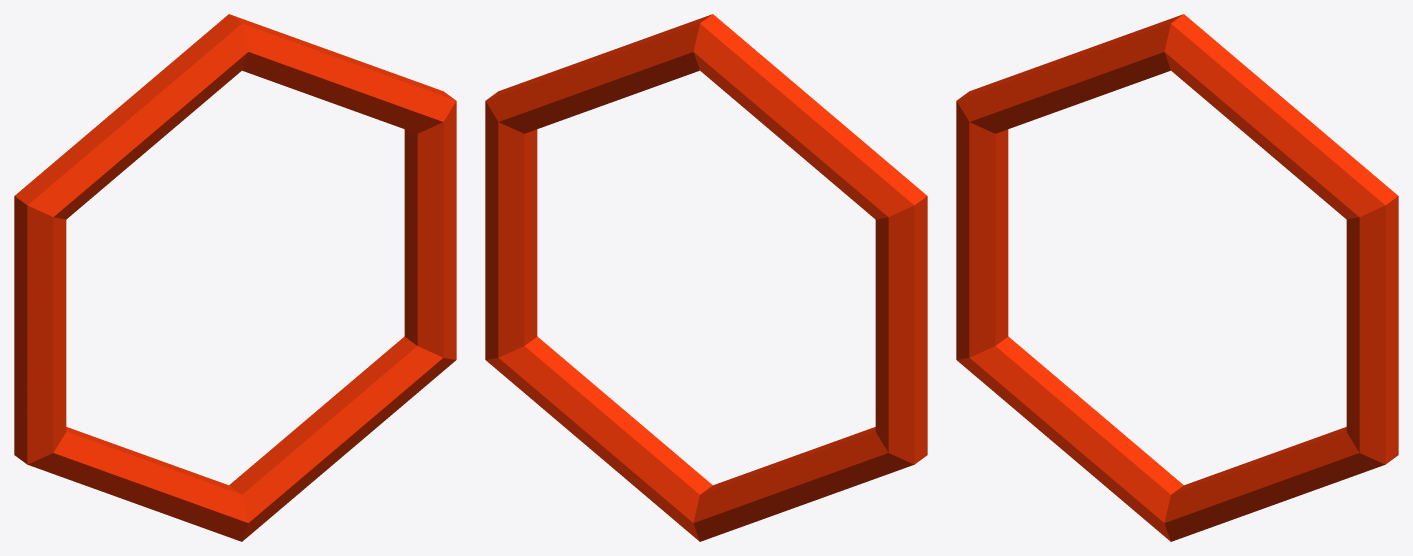
File: Shield_Frame_01_Hexagon_05.fbx
3 views of the same model, side by side, from view 1: azimuth 30°, elevation 25°; view 2: azimuth 150°, elevation 25°; view 3: azimuth 330°, elevation 25° (orthographic).
Parts seen in each view (by area): view 1: Shield_Frame_01_Hexagon_05; view 2: Shield_Frame_01_Hexagon_05; view 3: Shield_Frame_01_Hexagon_05.
Part boxes in pixels (<box>): Shield_Frame_01_Hexagon_05: <box>14,14,456,541</box>; Shield_Frame_01_Hexagon_05: <box>485,14,927,541</box>; Shield_Frame_01_Hexagon_05: <box>956,14,1398,541</box>.
Size of the model in its own units: 0.905 by 1.04 by 0.095.
